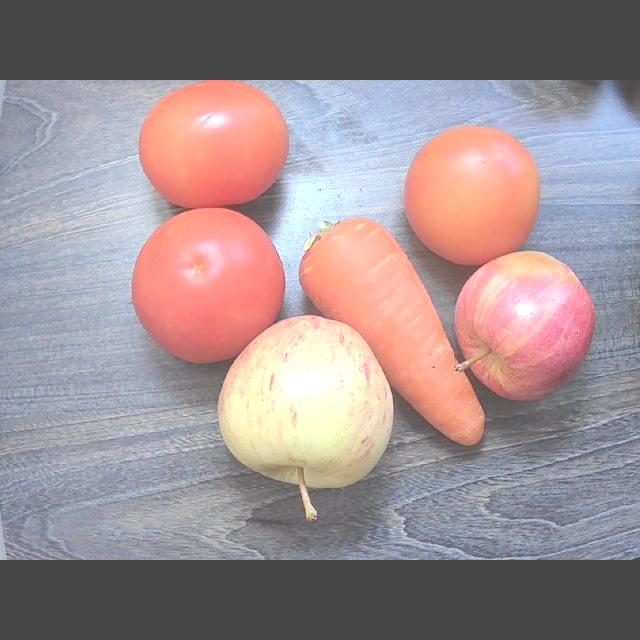manzana: (219, 315, 393, 520), (455, 251, 595, 400)
tomate: (132, 208, 284, 362), (139, 80, 288, 208), (404, 126, 540, 264)
zanahoria: (299, 218, 484, 444)
